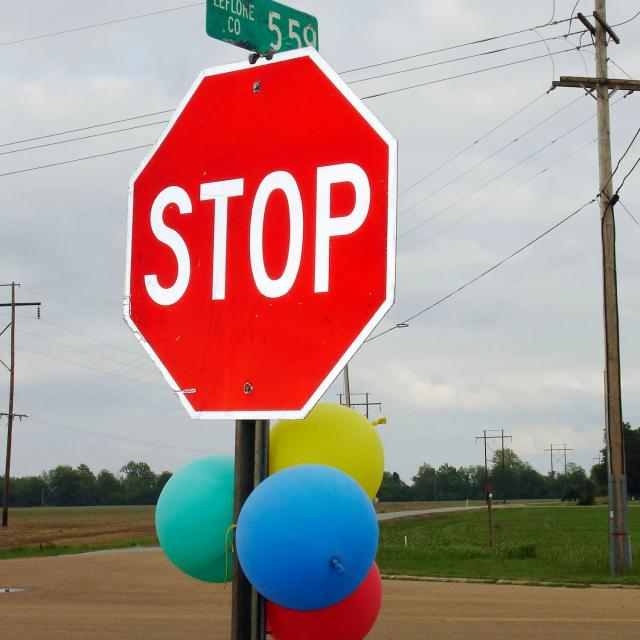stop: (126, 48, 400, 422)
